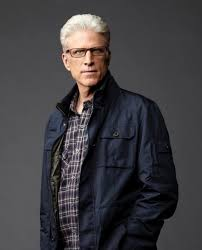white_male: (64, 20, 108, 86)
